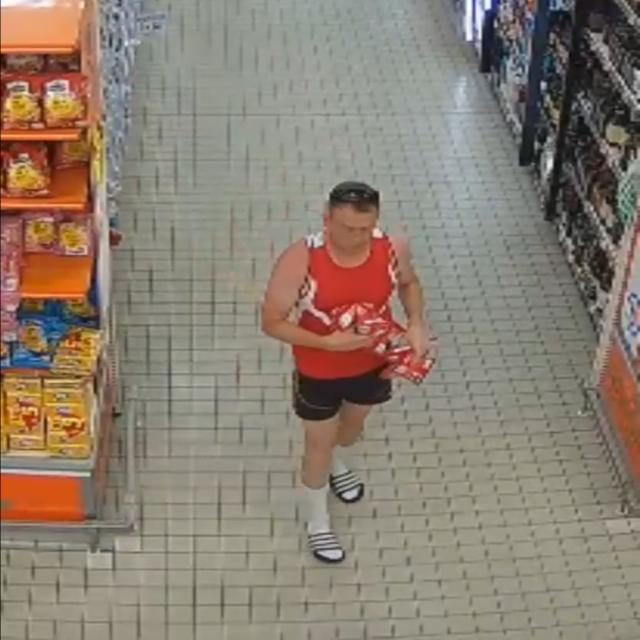article: (380, 353, 434, 387), (326, 301, 375, 333), (367, 319, 407, 357), (353, 304, 389, 332), (383, 346, 413, 362)
hands: (406, 321, 432, 360), (323, 331, 372, 351)
person: (262, 182, 429, 562)
